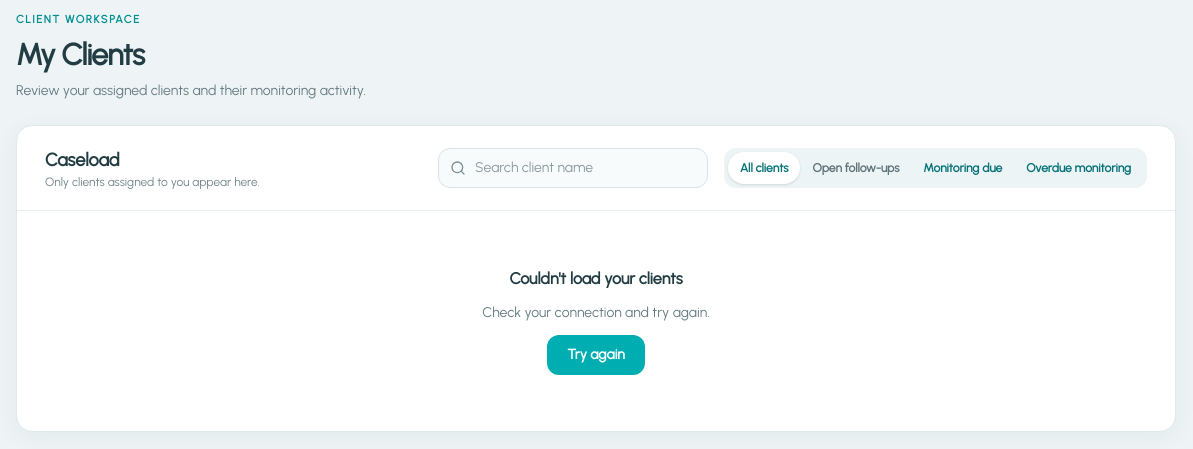
Test: offers a retry after a failed caseload read
Expected: the heading "Couldn't load your clients" is shown, [509, 266, 682, 290]
Click the button "Try again" at (596, 354), box [547, 334, 645, 374]
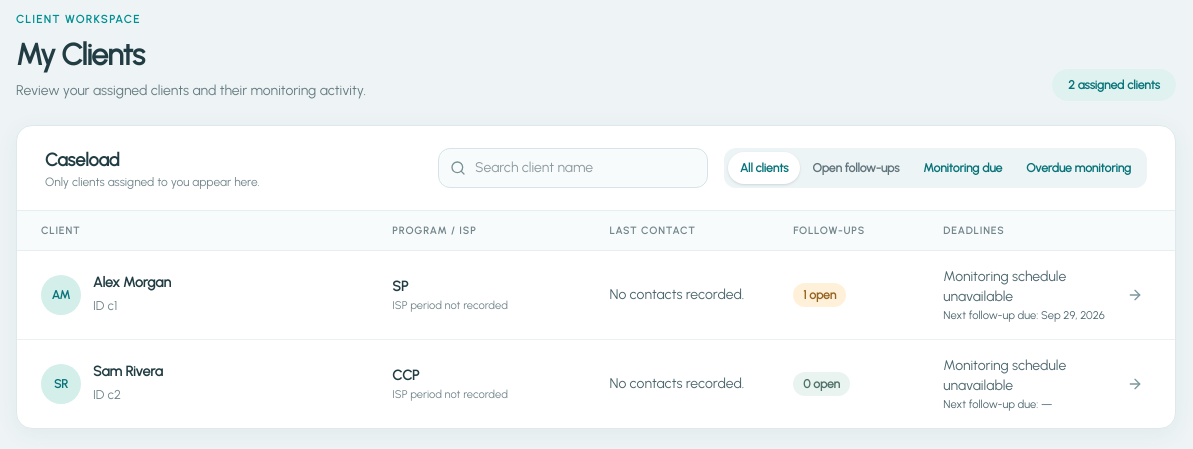
Now the text "Alex Morgan" is shown, box [93, 272, 171, 292]
